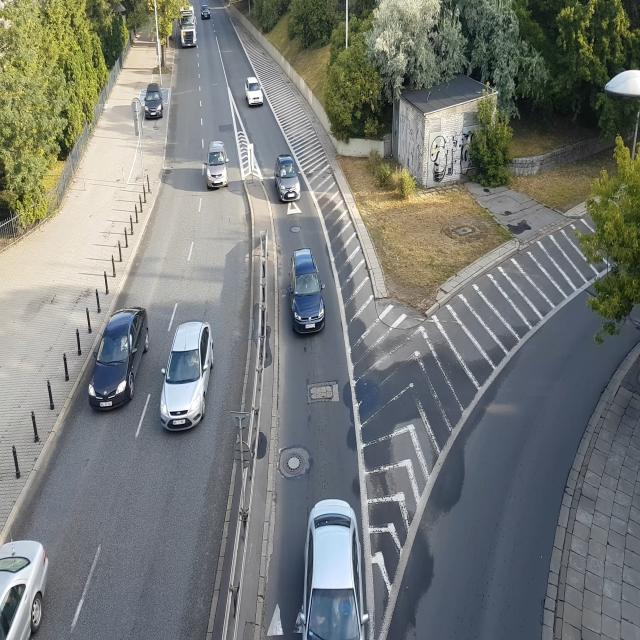car: (300, 497, 372, 640), (90, 310, 152, 412), (160, 321, 215, 432), (284, 240, 332, 341), (0, 543, 49, 639), (274, 154, 302, 203), (207, 141, 228, 189), (144, 88, 166, 118), (244, 79, 263, 107), (201, 9, 211, 20)
truck: (172, 12, 198, 49)
